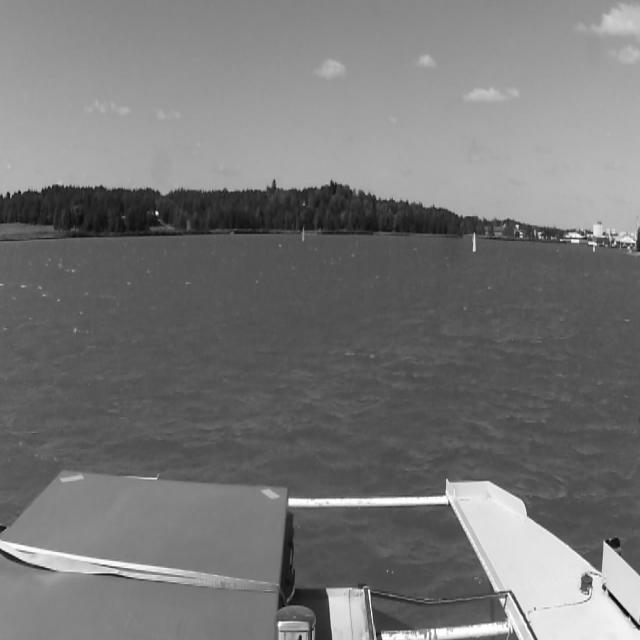buoy: (471, 233, 477, 252)
